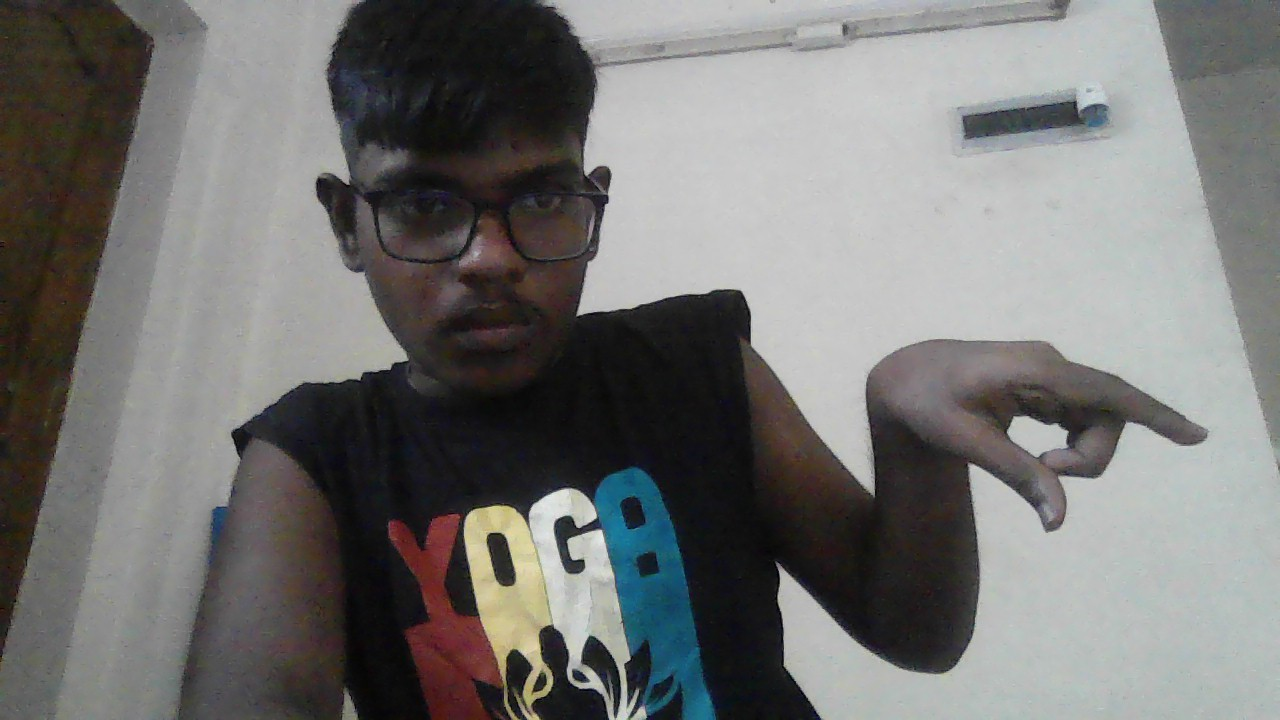Q: (874, 339, 1208, 532)
